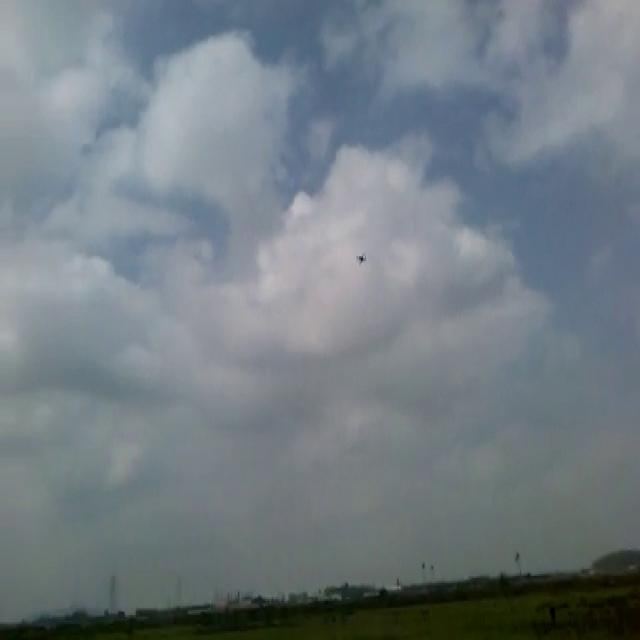drone: (354, 246, 368, 268)
